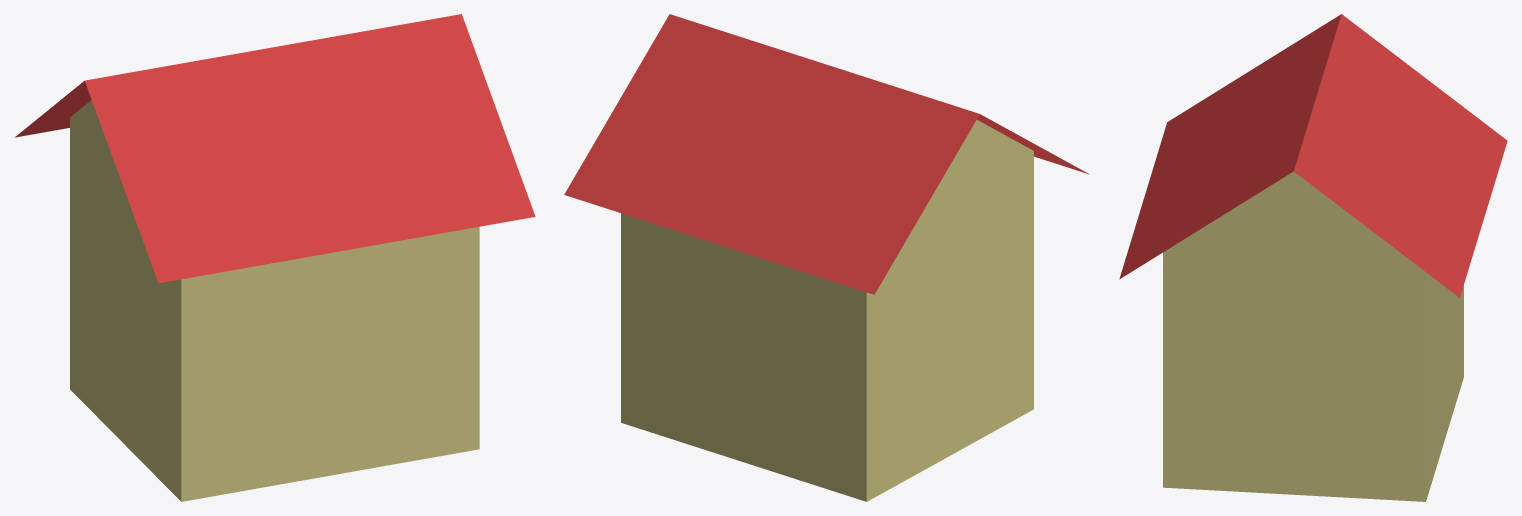
The picture shows the model from 3 angles, left to right: view 1: azimuth 30°, elevation 25°; view 2: azimuth 150°, elevation 25°; view 3: azimuth 270°, elevation 25°; orthographic projection. The views are drawn at different scales.
Bounding box in the file's own units: 10.63 × 9.92 × 9.59.
